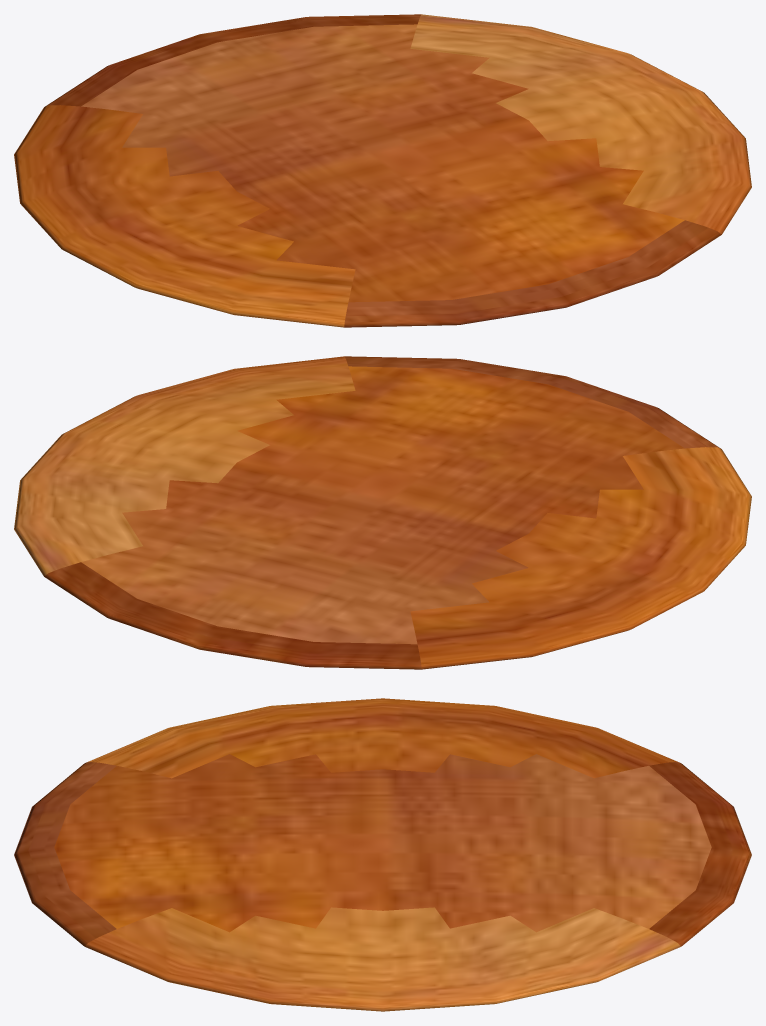
File: CarouselDisk.fbx
3 views of the same model, one above another, from view 1: azimuth 30°, elevation 25°; view 2: azimuth 150°, elevation 25°; view 3: azimuth 270°, elevation 25° (orthographic).
Parts seen in each view (by area): view 1: pSphere1; view 2: pSphere1; view 3: pSphere1.
Part boxes in pixels (left/top/right/bottom): pSphere1: left=14, top=14, right=751, bottom=327; pSphere1: left=14, top=356, right=751, bottom=669; pSphere1: left=14, top=698, right=751, bottom=1011.
Size of the model in its own units: 20 by 1 by 20.
Materials: 1 (1 with a texture image).
